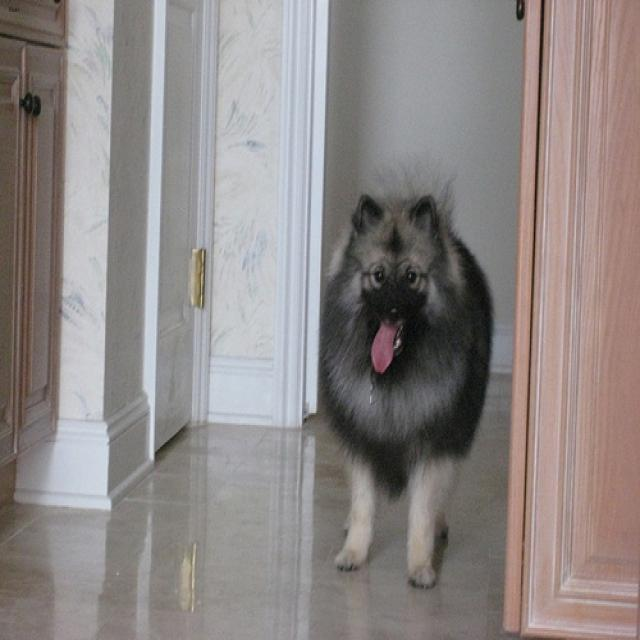dog-keeshond: (308, 157, 503, 604)
